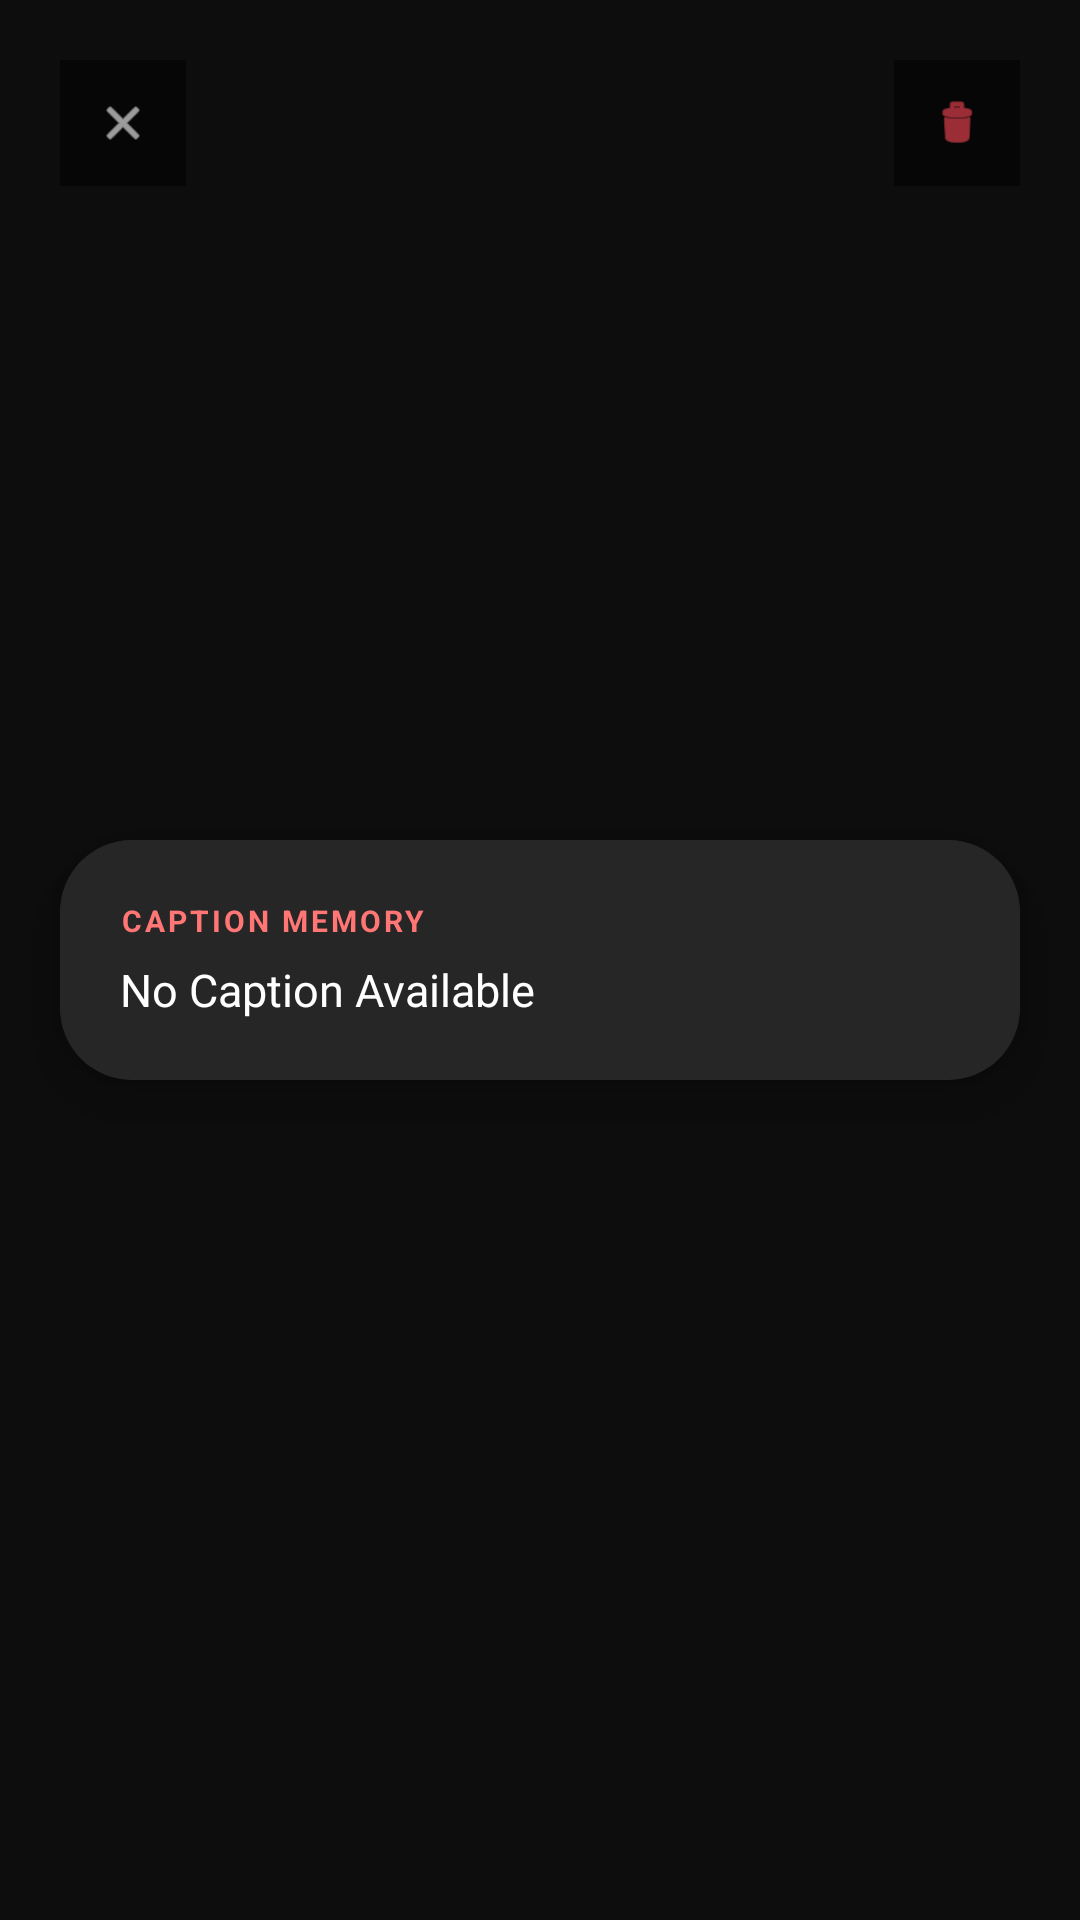

Named icons in this screenshot (1080 x 1920) and their bounding boxes, [x1,y1,x2,y2]:
close clear cancel: [106,106,140,140]
delete: [942,101,973,143]
